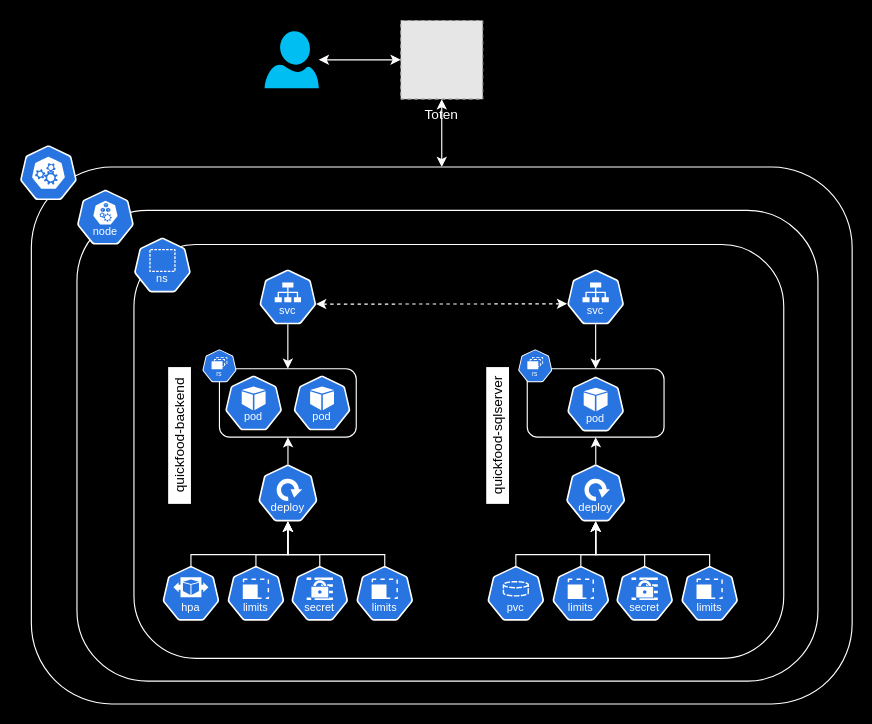
The diagram is 872 pixels wide and 724 high, and some of its shapes have lost their labels. Grey dashed boxes stand in for pictures. The centre of each missing label's shape, as x and y in pixels:
"Cluster" belongs at pixel 48 172.
"Usuário" belongs at pixel 291 59.
